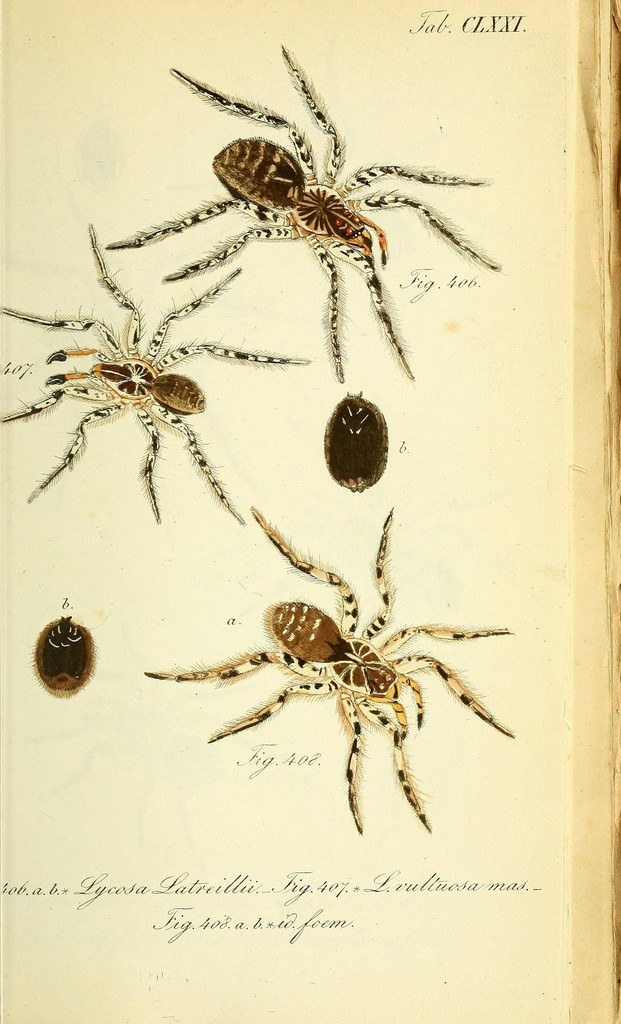insect: (103, 43, 502, 379), (141, 501, 518, 839), (109, 43, 489, 378), (137, 509, 512, 825), (0, 211, 310, 524), (0, 221, 309, 528)
